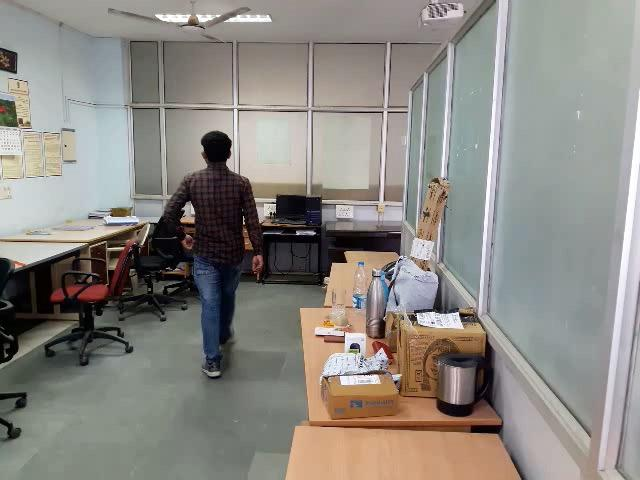shoplifting: (166, 218, 208, 288)
